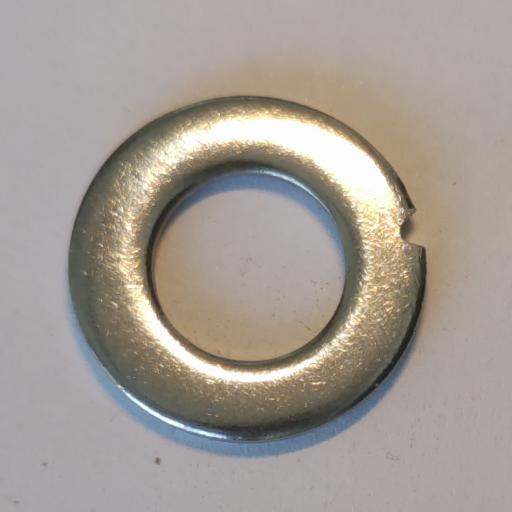burr: (400, 210, 426, 249)
